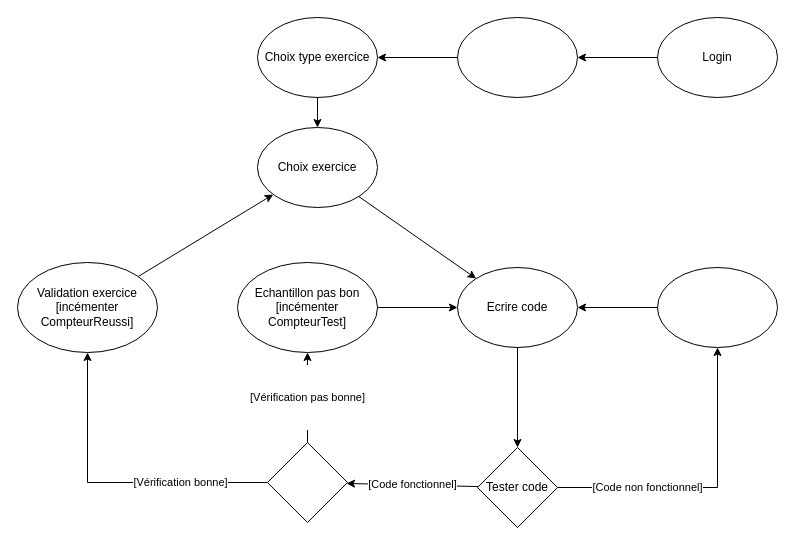
This 795x545 diagram has some shape labels left out. The centre of each missing label's shape, as x and y in pixels:
"Choix langage" belongs at (x=517, y=57).
"Message d'erreur" belongs at (x=717, y=307).
"Verifier code" belongs at (x=307, y=482).
